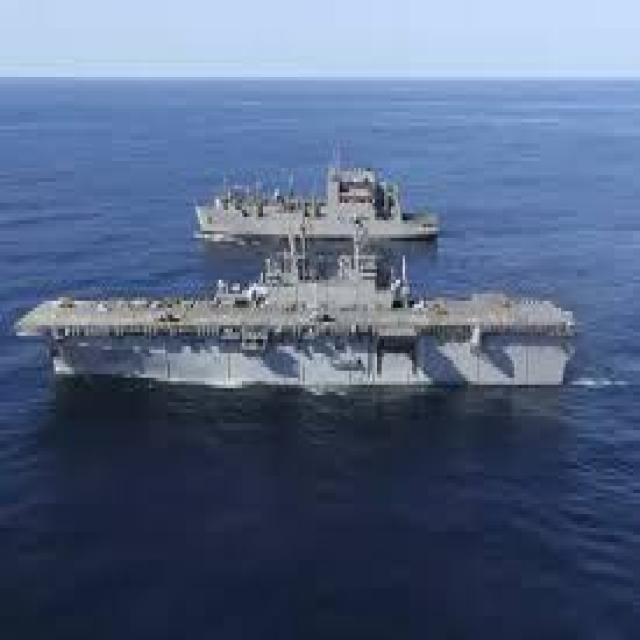navalvessels: (11, 231, 598, 394), (192, 143, 438, 249)
